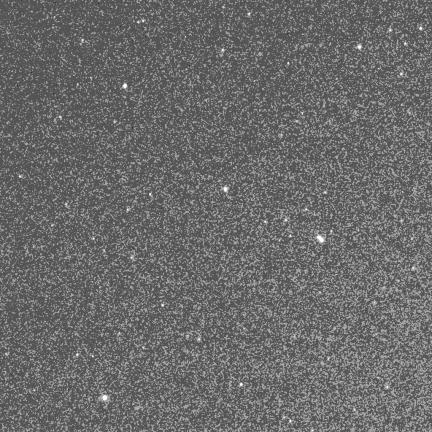blob: (357, 44, 362, 50), (123, 83, 127, 89), (284, 218, 288, 223), (103, 395, 107, 400), (248, 13, 252, 17), (137, 20, 141, 24), (289, 420, 293, 424), (324, 191, 328, 195), (400, 72, 404, 76), (162, 303, 165, 308), (224, 187, 227, 192), (222, 49, 225, 53), (389, 28, 392, 32), (287, 62, 290, 66), (240, 383, 243, 387), (76, 353, 79, 357), (149, 193, 152, 197), (405, 42, 408, 46), (81, 38, 84, 42), (419, 27, 422, 30), (19, 175, 22, 178), (59, 116, 62, 119), (198, 338, 201, 341), (92, 355, 95, 358), (114, 120, 116, 123), (142, 19, 144, 22)
